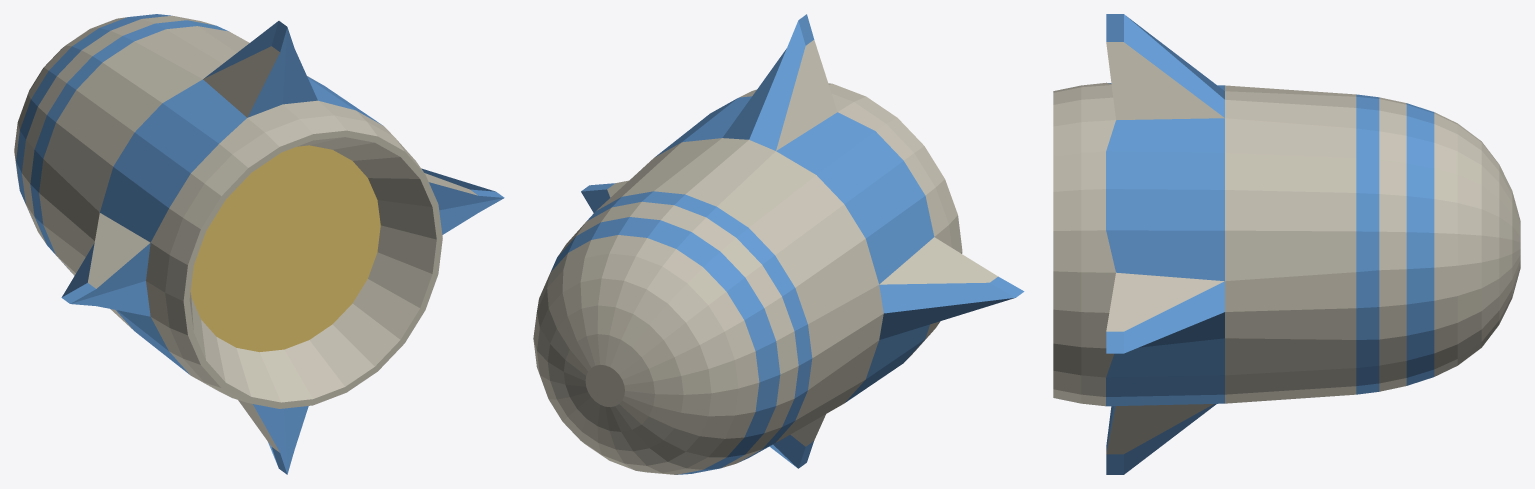
File: ohjus.fbx
3 renders of one model, left to right at view 1: azimuth 30°, elevation 25°; view 2: azimuth 150°, elevation 25°; view 3: azimuth 270°, elevation 25°, orthographic. The views are drawn at different scales.
Visible parts, largest first — view 1: Circle; view 2: Circle; view 3: Circle.
Boxes of the visible parts, x1,y1,x2,y2 form: Circle: [14, 14, 504, 474]; Circle: [533, 14, 1024, 474]; Circle: [1053, 14, 1520, 474].
Size of the model in its own units: 48.72 by 47.99 by 44.09.
